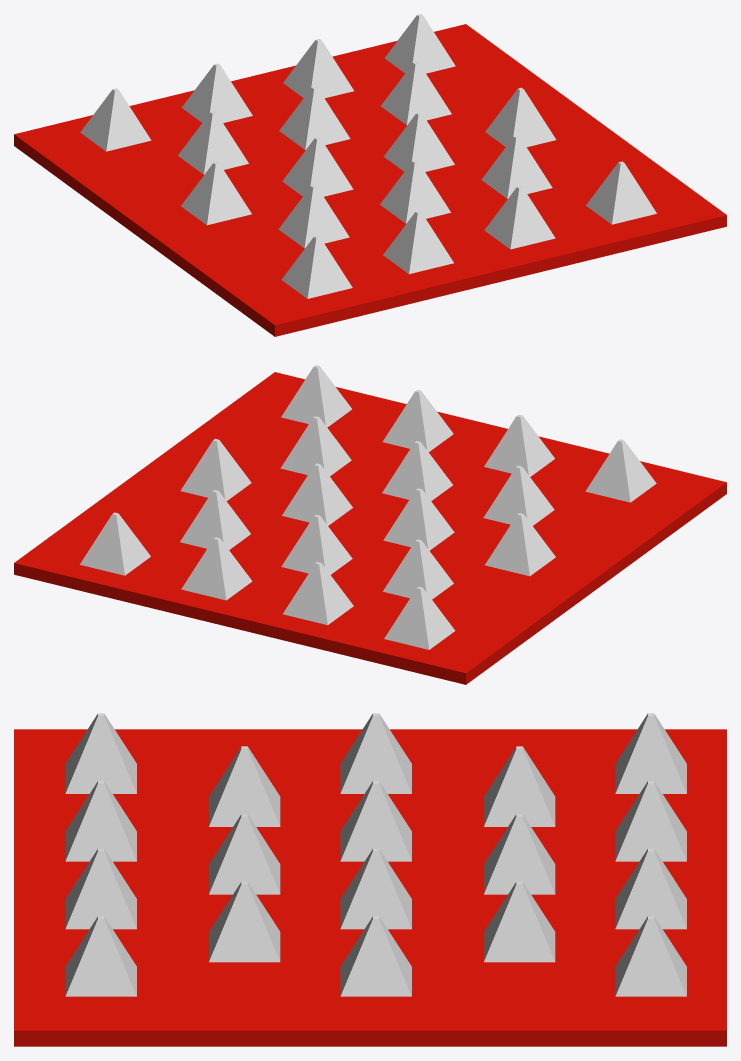
The model's file is barrier-10.fbx.
3 renders of one model, top to bottom at view 1: azimuth 30°, elevation 25°; view 2: azimuth 150°, elevation 25°; view 3: azimuth 270°, elevation 25°, orthographic. The views are drawn at different scales.
Parts seen in each view (by area): view 1: Cube.003; view 2: Cube.003; view 3: Cube.003.
Boxes of the visible parts, x1,y1,x2,y2 form: Cube.003: (14,14,726,336); Cube.003: (14,365,726,684); Cube.003: (14,713,726,1046).
Size of the model in its own units: 324 by 40.1 by 324.
